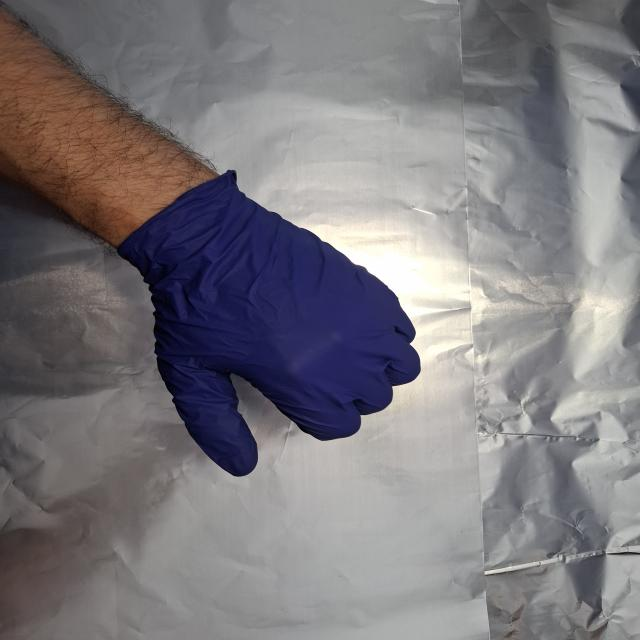glove_on: (126, 171, 424, 480)
